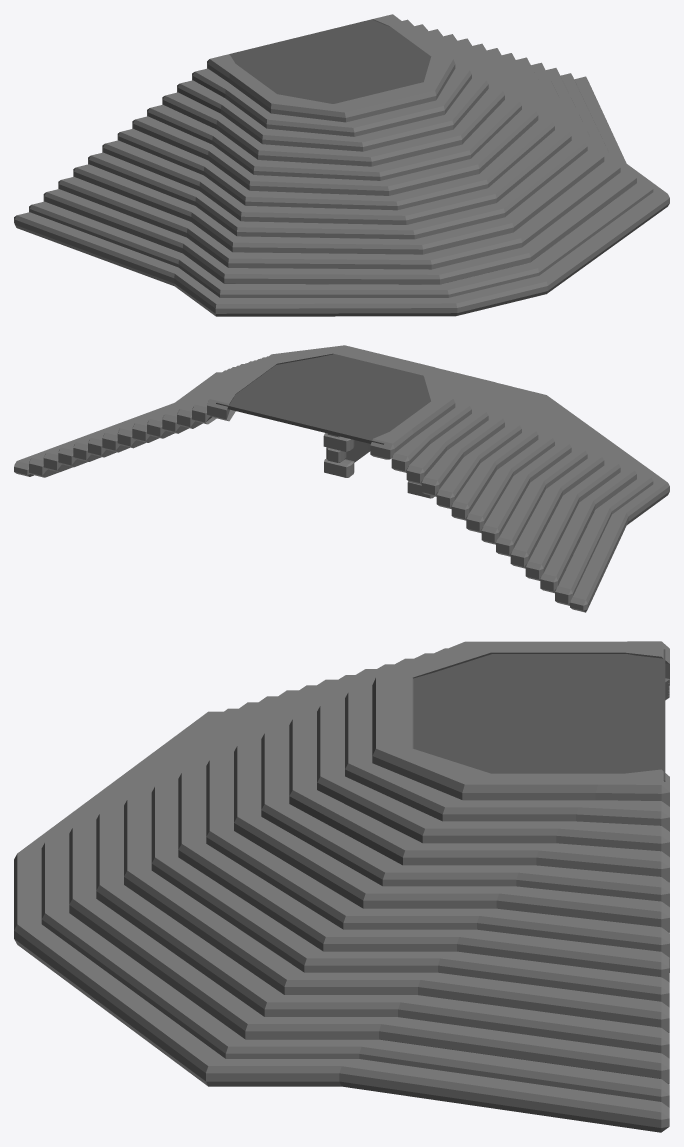
File: DungeonStairsLarge.fbx
The picture shows the model from 3 angles, top to bottom: view 1: azimuth 30°, elevation 25°; view 2: azimuth 150°, elevation 25°; view 3: azimuth 270°, elevation 25°; orthographic projection. The views are drawn at different scales.
Parts seen in each view (by area): view 1: DungeonStairsLarge; view 2: DungeonStairsLarge; view 3: DungeonStairsLarge.
Part boxes in pixels (x1,y1,x2,y2): DungeonStairsLarge: [14, 14, 669, 316]; DungeonStairsLarge: [14, 345, 669, 612]; DungeonStairsLarge: [14, 641, 669, 1132].
Size of the model in its own units: 1782 by 363 by 1099.
Materials: 1 (1 with a texture image).
